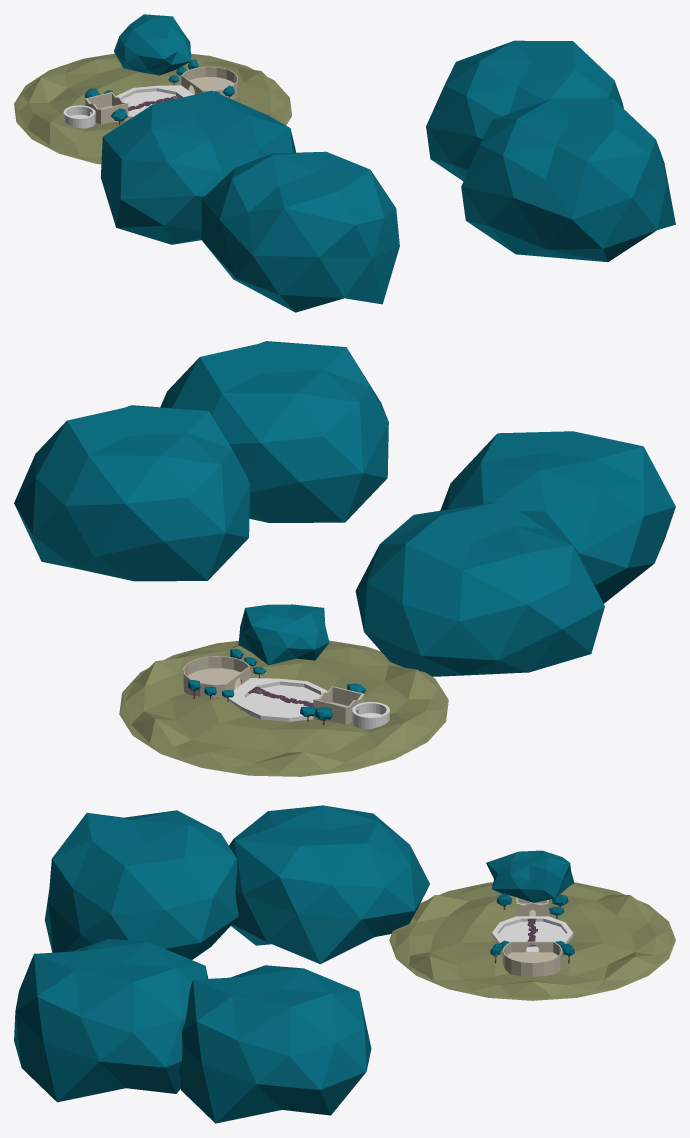
File: galleries2.dae
3 renders of one model, top to bottom at view 1: azimuth 30°, elevation 25°; view 2: azimuth 150°, elevation 25°; view 3: azimuth 270°, elevation 25°, orthographic. The views are drawn at different scales.
Visible parts, largest first — view 1: tree-canopy_010, tree-canopy_011, tree-canopy_008, tree-canopy_009, Icosphere_002, tree-canopy_001, Cylinder_002, Cylinder_001, Cube, Cylinder; view 2: tree-canopy_008, tree-canopy_009, tree-canopy_010, Icosphere_002, tree-canopy_011, tree-canopy_001, Cylinder_001, Cylinder_002, Cube, Cylinder; view 3: tree-canopy_009, tree-canopy_010, tree-canopy_008, tree-canopy_011, Icosphere_002, tree-canopy_001, Cylinder_002, Cylinder_001, Cube.
Part boxes in pixels (box(x1,y1,x2,y2)): tree-canopy_010: box(461, 98, 675, 262); tree-canopy_011: box(201, 151, 399, 312); tree-canopy_008: box(100, 90, 295, 244); tree-canopy_009: box(426, 40, 623, 181); Icosphere_002: box(14, 53, 291, 164); tree-canopy_001: box(114, 14, 191, 75); Cylinder_002: box(181, 66, 238, 99); Cylinder_001: box(116, 85, 193, 119); Cube: box(85, 92, 128, 124); Cylinder: box(63, 105, 95, 128); tree-canopy_008: box(355, 500, 604, 676); tree-canopy_009: box(14, 405, 249, 581); tree-canopy_010: box(160, 341, 388, 522); Icosphere_002: box(119, 640, 448, 776); tree-canopy_011: box(440, 431, 675, 603); tree-canopy_001: box(238, 604, 329, 665); Cylinder_001: box(226, 678, 327, 721); Cylinder_002: box(183, 656, 250, 697); Cube: box(313, 686, 364, 724); Cylinder: box(352, 702, 389, 728); tree-canopy_009: box(178, 965, 371, 1123); tree-canopy_010: box(14, 939, 208, 1102); tree-canopy_008: box(229, 805, 429, 964); tree-canopy_011: box(45, 810, 238, 959); Icosphere_002: box(389, 882, 675, 1000); tree-canopy_001: box(486, 850, 574, 902); Cylinder_002: box(502, 941, 562, 976); Cylinder_001: box(492, 916, 573, 951); Cube: box(516, 897, 548, 916).
Bounding box in the file's own units: 46.19 × 53.03 × 11.3.
